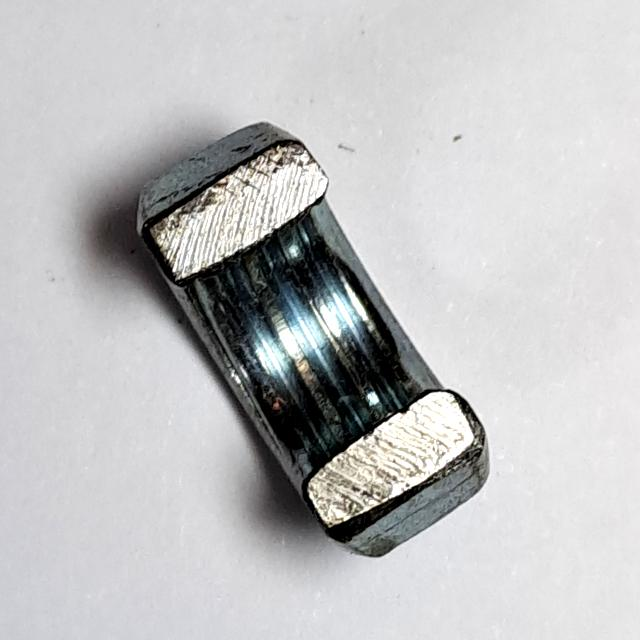Side-Fracture: (122, 100, 504, 573)
